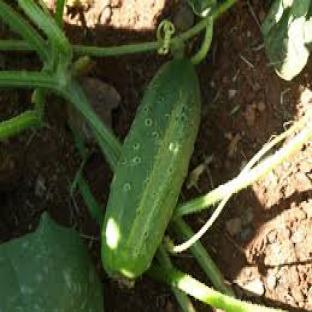Cucumber: (102, 60, 201, 278)
